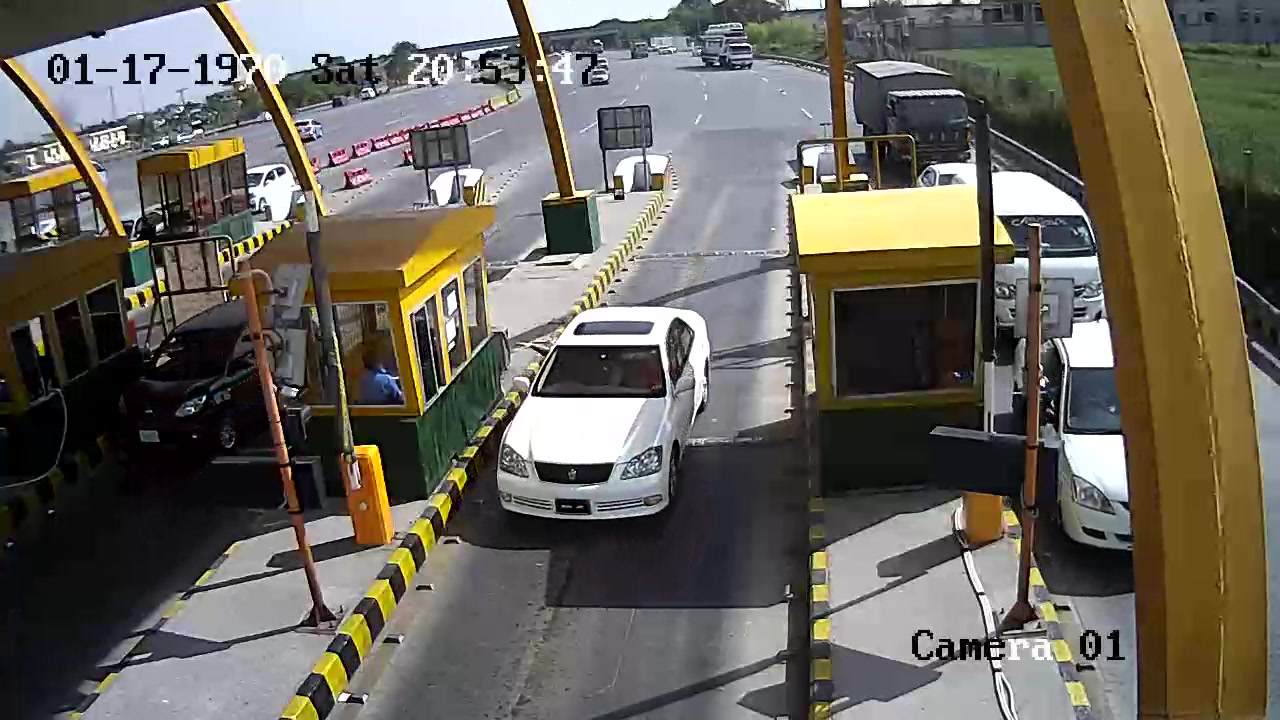F1: (489, 299, 719, 527)
